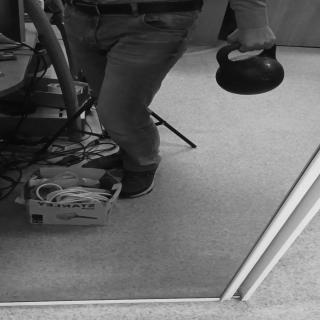kettlebell: (216, 39, 286, 96)
